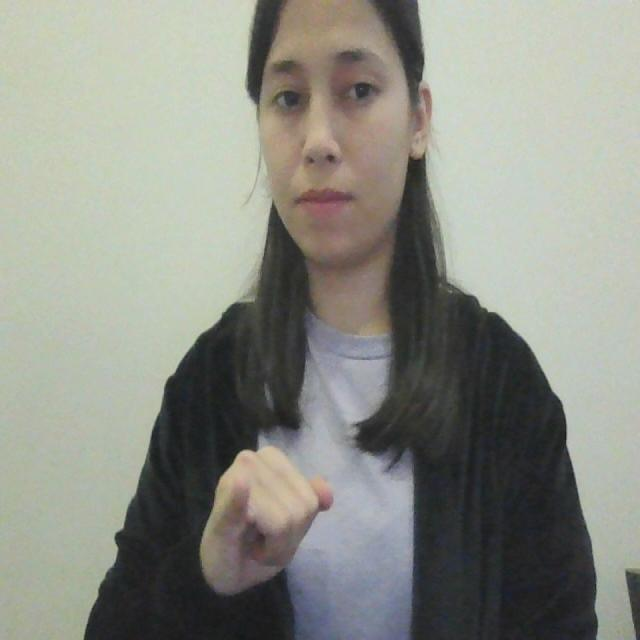kotu: (192, 434, 345, 585)
